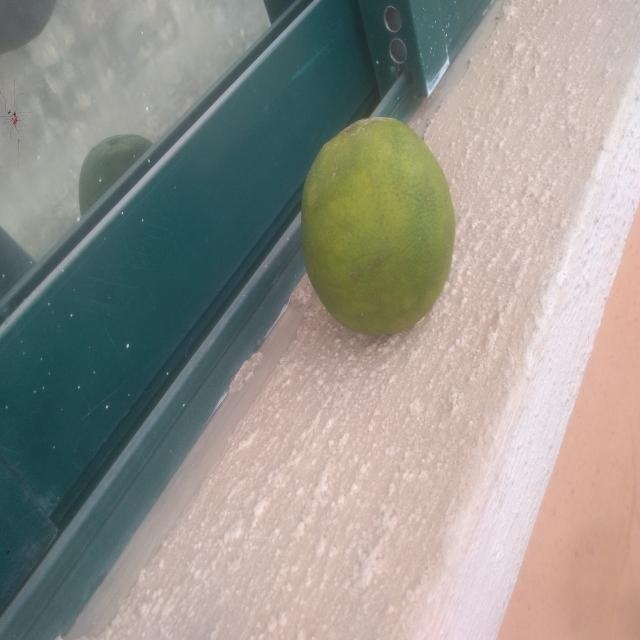agrume: (289, 111, 455, 340)
